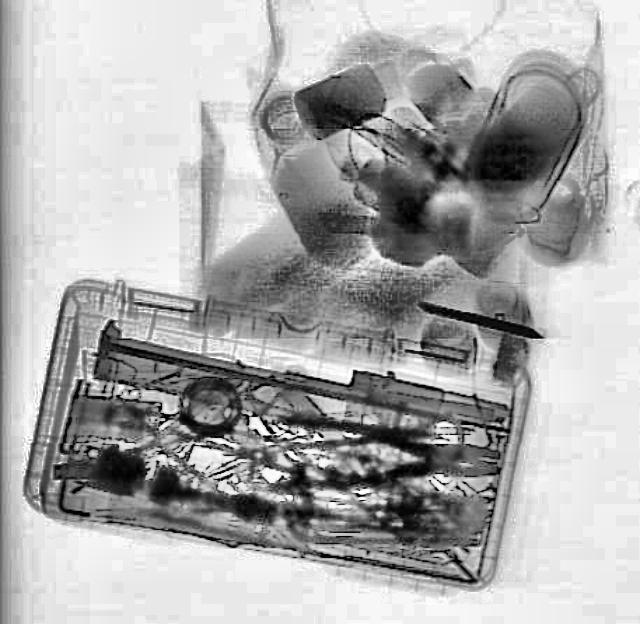Pliers: (268, 417, 498, 493)
